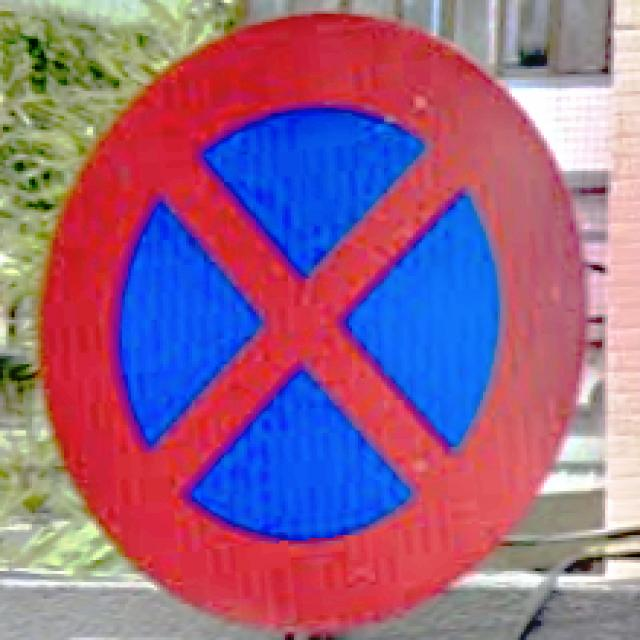nopark: (35, 11, 588, 637)
